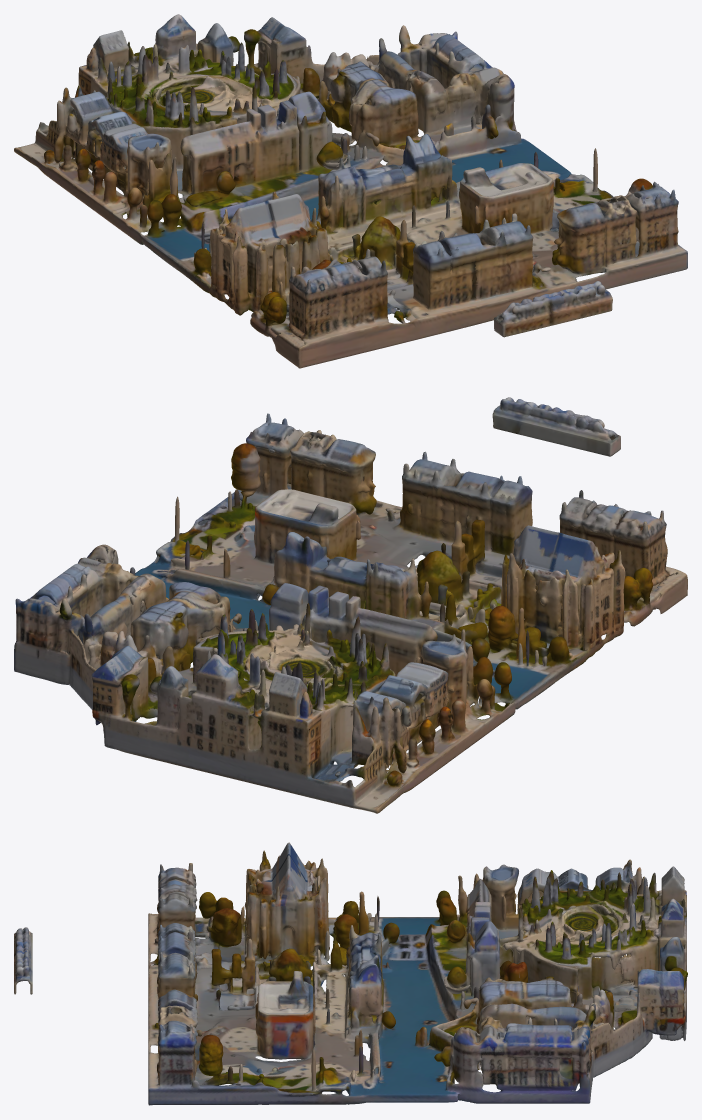
File: Lyon_France .glb
The picture shows the model from 3 angles, top to bottom: view 1: azimuth 30°, elevation 25°; view 2: azimuth 150°, elevation 25°; view 3: azimuth 270°, elevation 25°; orthographic projection. The views are drawn at different scales.
Visible parts, largest first — view 1: tripo_node_6598db32-b846-4931-b459-d73d1cb00dc0; view 2: tripo_node_6598db32-b846-4931-b459-d73d1cb00dc0; view 3: tripo_node_6598db32-b846-4931-b459-d73d1cb00dc0.
Boxes of the visible parts, x1,y1,x2,y2 form: tripo_node_6598db32-b846-4931-b459-d73d1cb00dc0: [14, 14, 687, 368]; tripo_node_6598db32-b846-4931-b459-d73d1cb00dc0: [14, 397, 687, 813]; tripo_node_6598db32-b846-4931-b459-d73d1cb00dc0: [14, 842, 687, 1105].
Bounding box in the file's own units: 0.6398 × 0.1722 × 1.
1 material, 1 textured.
